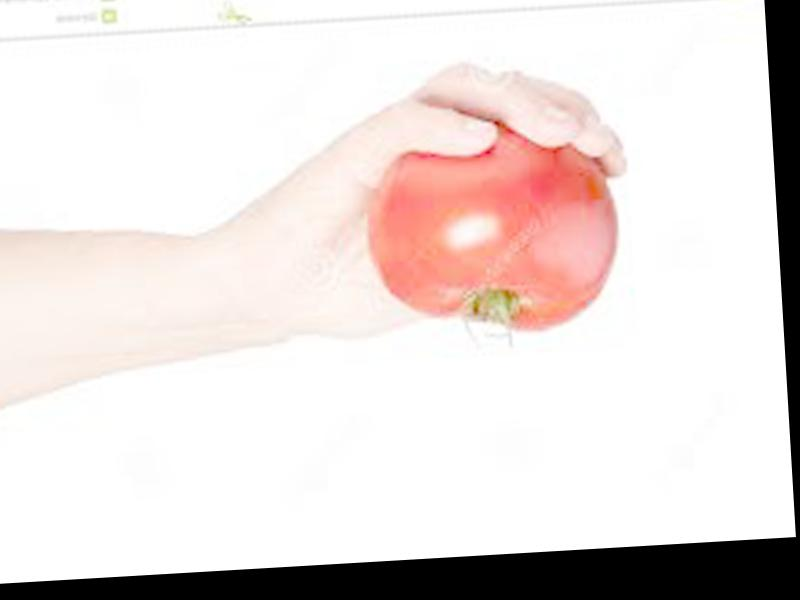Tomato: (358, 117, 624, 343)
